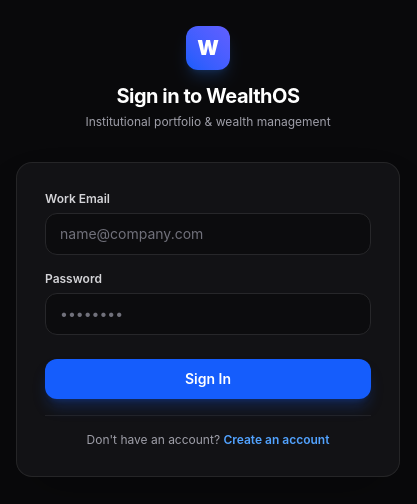
Test: LoginPage › rejects a malformed email without hitting the network
Type "not-an-email" into the field labelled "Work Email" at (208, 234), box [45,212,371,254]
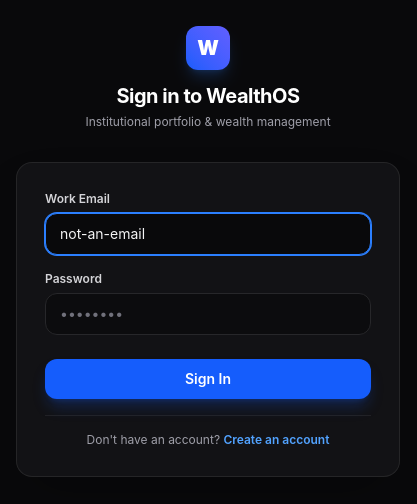
Type "somepassword" into the password field labelled "Password" at (208, 314), box [45,292,371,334]
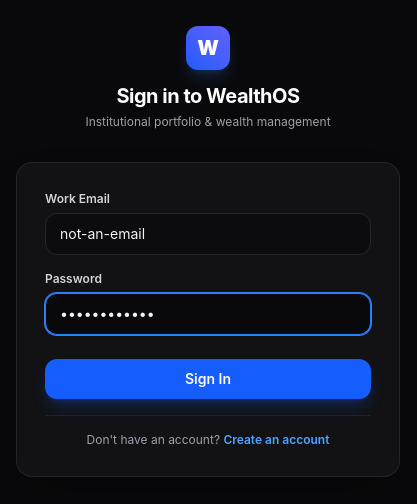
Click the button "Sign In" at (208, 378), box [45,358,371,398]
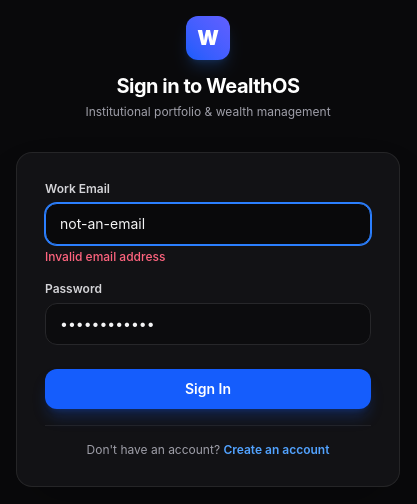
Result: the text "Invalid email address" is shown at [45,248,165,264]
